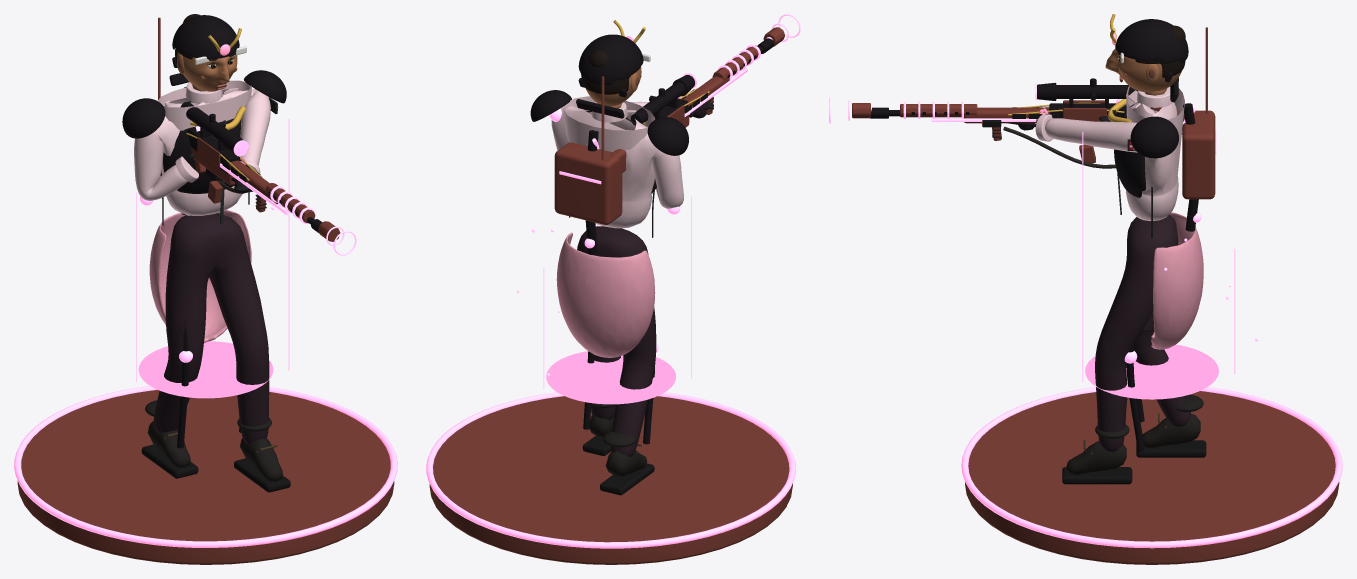
The model's file is skytte_sakura.glb.
The picture shows the model from 3 angles, left to right: view 1: azimuth 30°, elevation 25°; view 2: azimuth 150°, elevation 25°; view 3: azimuth 270°, elevation 25°; orthographic projection. The views are drawn at different scales.
Visible parts, largest first — view 1: fod_net, menneske_net, op4.002_net, hoved_net, op2_net, vaaben_net, op3_net, op4_net, op4.001_net, op2.001_net; view 2: fod_net, menneske_net, op3.001_net, op4.002_net, hoved_net, vaaben_net, op2_net, op4.001_net, op3_net, op4_net; view 3: fod_net, menneske_net, hoved_net, op4.002_net, vaaben_net, op3.001_net, op2_net, op3_net, op4.001_net, op2.001_net, op4_net, op1_net.
Boxes of the visible parts, x1=… form: fod_net: x1=14, y1=385, x2=397, y2=564; menneske_net: x1=134, y1=80, x2=290, y2=492; op4.002_net: x1=136, y1=119, x2=289, y2=398; hoved_net: x1=169, y1=14, x2=246, y2=91; op2_net: x1=122, y1=70, x2=286, y2=193; vaaben_net: x1=180, y1=101, x2=322, y2=232; op3_net: x1=195, y1=126, x2=340, y2=241; op4_net: x1=220, y1=163, x2=356, y2=255; op4.001_net: x1=139, y1=87, x2=254, y2=448; op2.001_net: x1=186, y1=133, x2=266, y2=212; fod_net: x1=426, y1=392, x2=796, y2=564; menneske_net: x1=551, y1=96, x2=713, y2=495; op3.001_net: x1=554, y1=76, x2=622, y2=224; op4.002_net: x1=517, y1=196, x2=691, y2=404; hoved_net: x1=576, y1=20, x2=650, y2=118; vaaben_net: x1=610, y1=38, x2=774, y2=172; op2_net: x1=530, y1=90, x2=688, y2=193; op4.001_net: x1=549, y1=108, x2=680, y2=444; op3_net: x1=667, y1=27, x2=784, y2=121; op4_net: x1=592, y1=14, x2=800, y2=149; fod_net: x1=961, y1=387, x2=1342, y2=564; menneske_net: x1=1018, y1=86, x2=1206, y2=484; hoved_net: x1=1105, y1=14, x2=1188, y2=102; op4.002_net: x1=1082, y1=132, x2=1258, y2=399; vaaben_net: x1=870, y1=78, x2=1184, y2=133; op3.001_net: x1=1182, y1=27, x2=1216, y2=199; op2_net: x1=1107, y1=78, x2=1178, y2=197; op3_net: x1=852, y1=99, x2=1119, y2=121; op4.001_net: x1=1124, y1=103, x2=1201, y2=452; op2.001_net: x1=981, y1=102, x2=1124, y2=163; op4_net: x1=829, y1=97, x2=1196, y2=132; op1_net: x1=1003, y1=107, x2=1115, y2=168.
Size of the model in its own units: 1.94 by 2.61 by 2.61.
